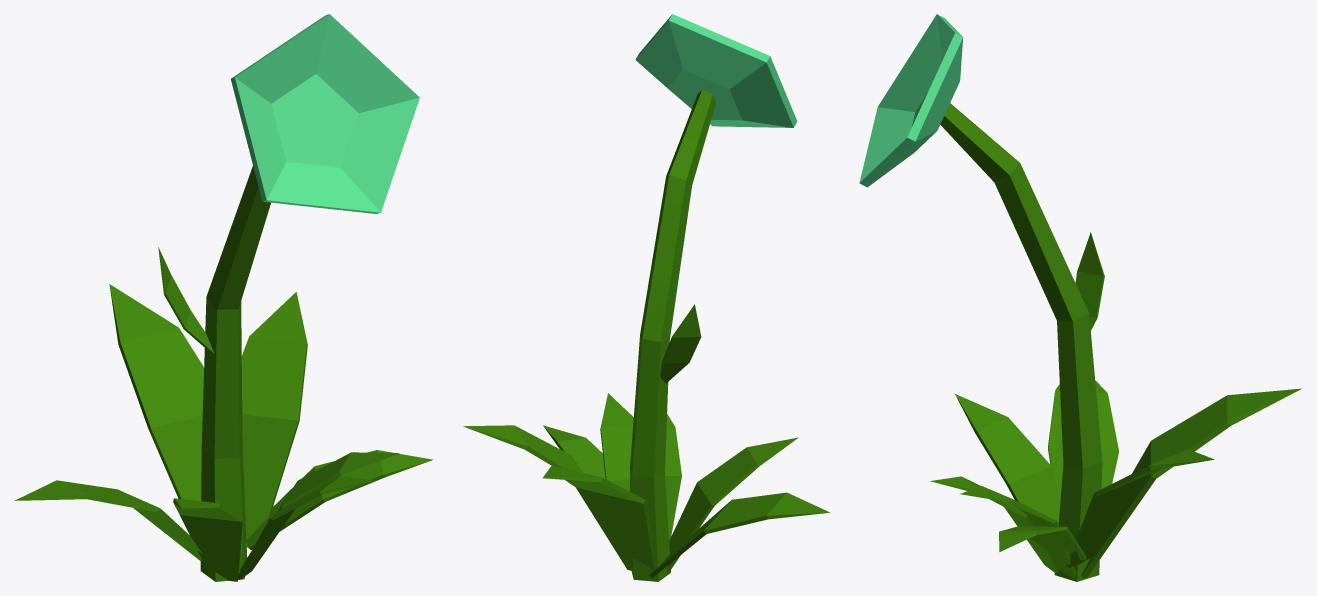
The model's file is Flower_h_a_01.fbx.
The picture shows the model from 3 angles, left to right: view 1: azimuth 30°, elevation 25°; view 2: azimuth 150°, elevation 25°; view 3: azimuth 270°, elevation 25°; orthographic projection. The views are drawn at different scales.
Parts seen in each view (by area): view 1: Flower_h_a_01_LOD0; view 2: Flower_h_a_01_LOD0; view 3: Flower_h_a_01_LOD0.
Boxes of the visible parts, left/top/right/bottom form: Flower_h_a_01_LOD0: left=14, top=14, right=433, bottom=581; Flower_h_a_01_LOD0: left=463, top=14, right=829, bottom=581; Flower_h_a_01_LOD0: left=859, top=14, right=1301, bottom=581.
Size of what is drawn, in the model's own units: 2.07 by 3.13 by 2.25.
